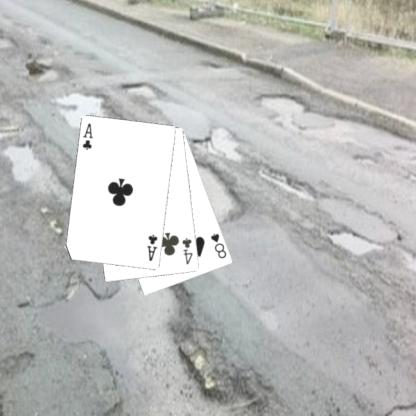4C: (179, 235, 195, 266)
8S: (208, 230, 228, 260)
AC: (144, 232, 160, 262), (80, 121, 94, 152)
